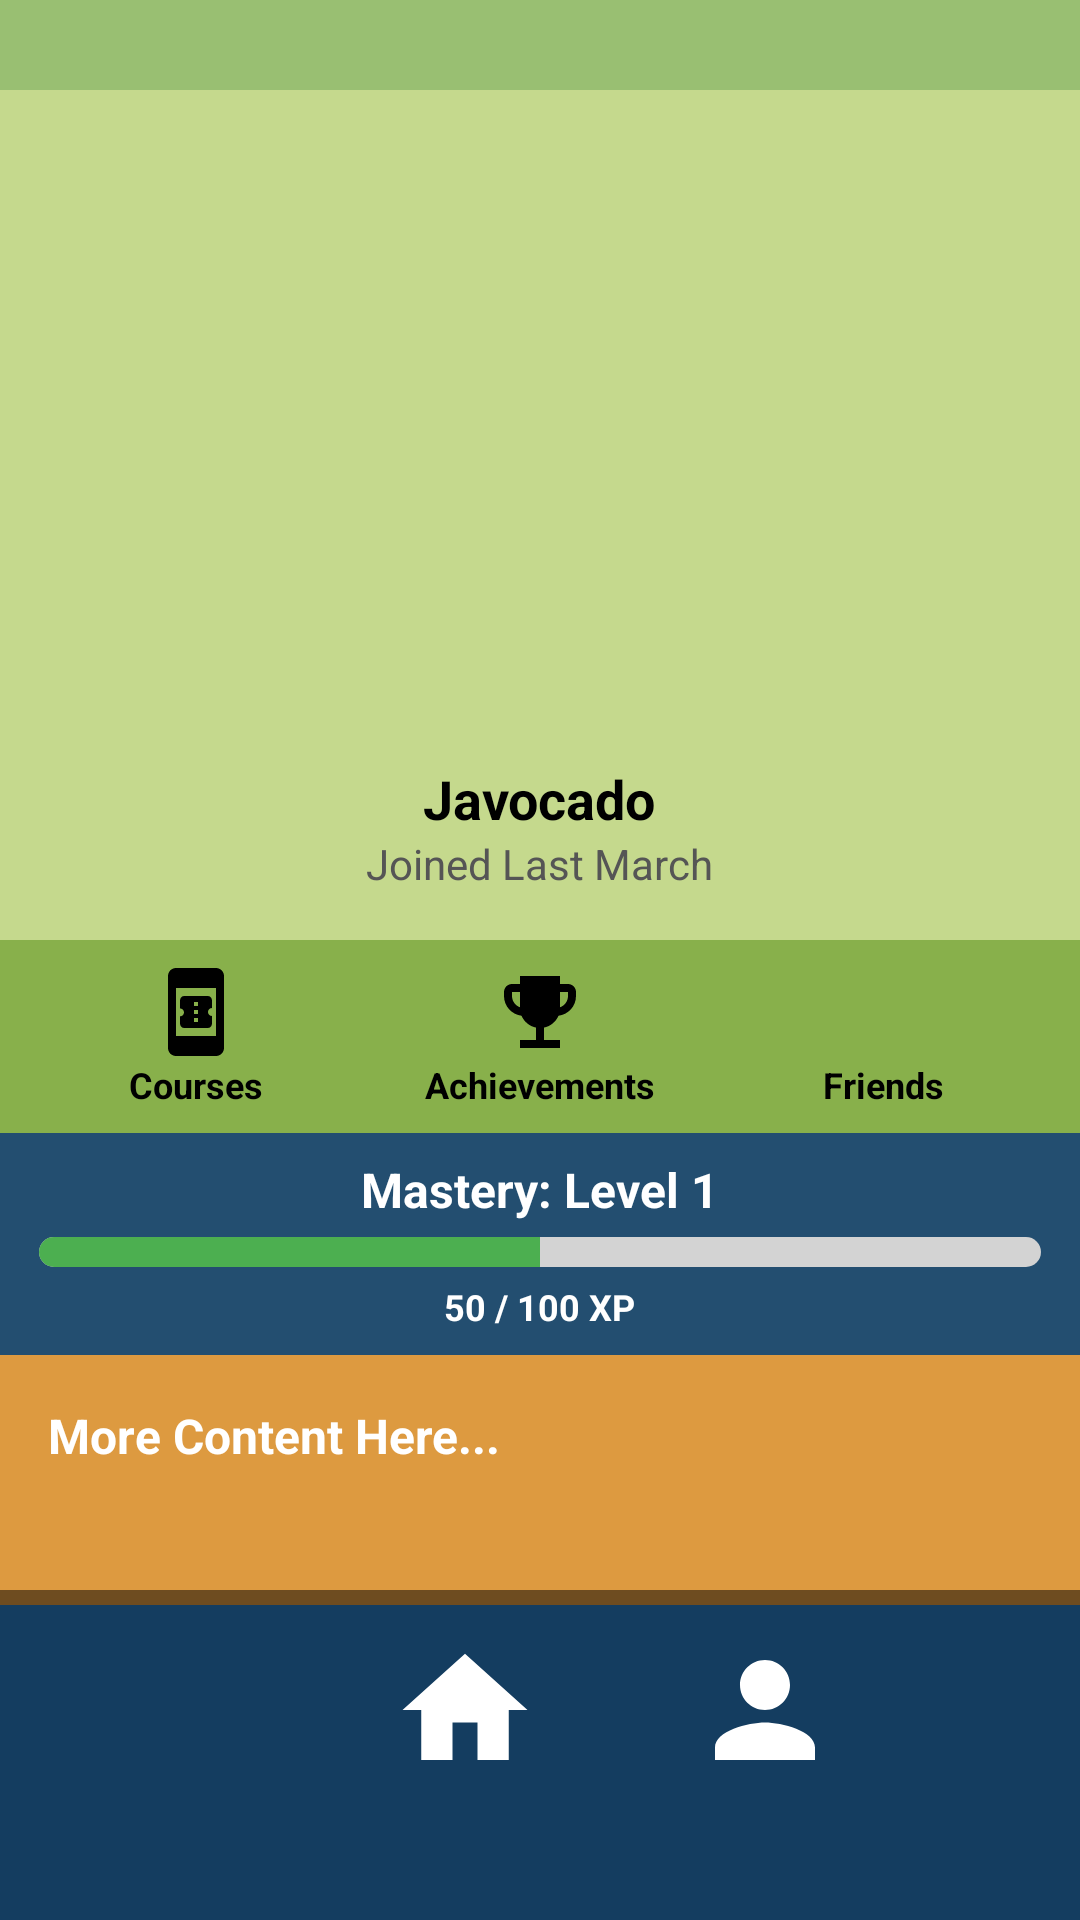

Icon click points for this 1080×1920 phone screenshot, format (x=x, y=y):
home: (x=465, y=1707)
profile: (x=765, y=1710)
